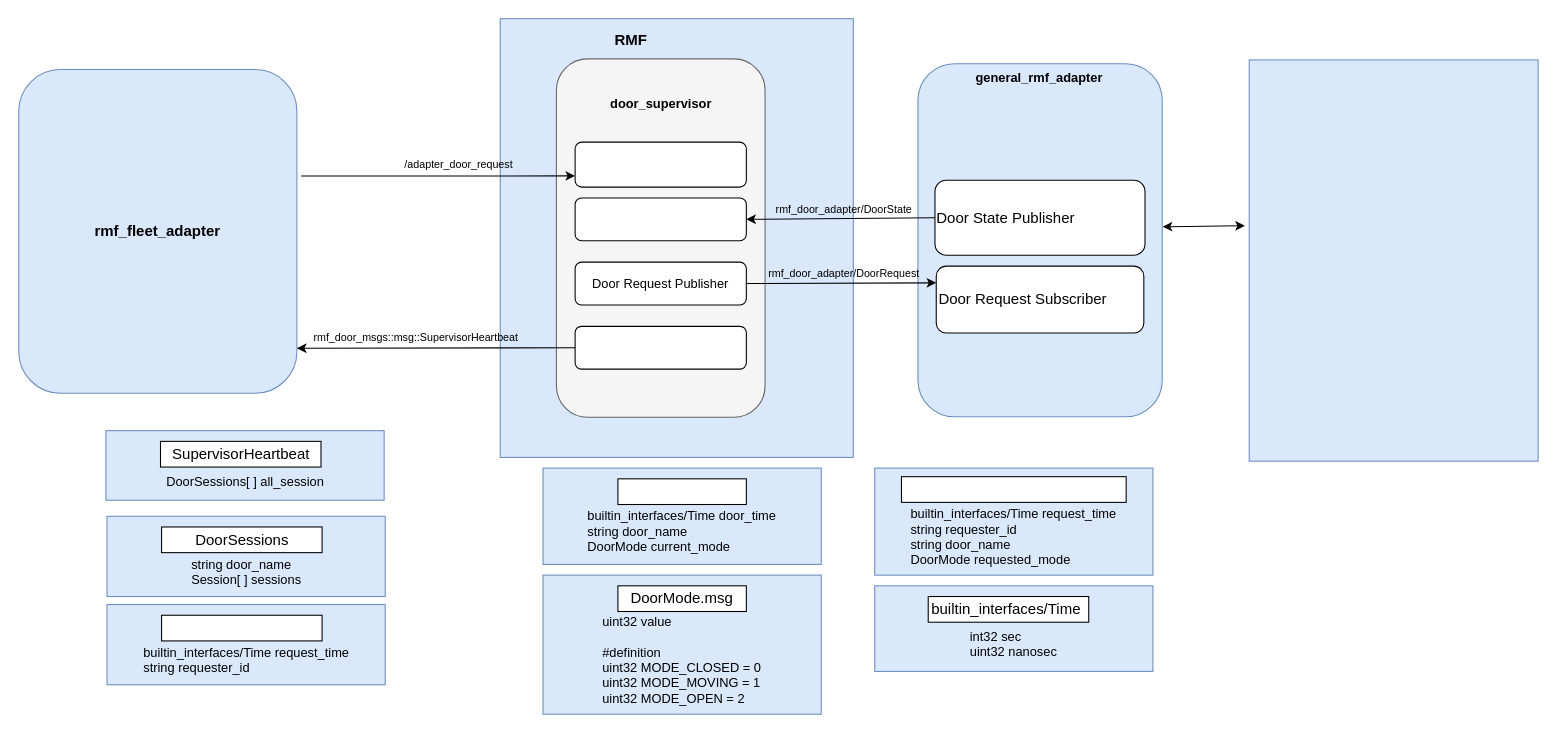
This 1557x733 diagram has some shape labels left out. Each missing label, with the centre of its shape:
"Adapter Door Request Subscriber" goes at (x=660, y=164).
"DOOR API" goes at (x=1393, y=260).
"Door Heartbeat Publisher" goes at (x=660, y=347).
"Door State Subscriber" goes at (x=660, y=219).
"DoorRequest.msg" goes at (x=1013, y=489).
"DoorState.msg" goes at (x=681, y=491).
"Session" goes at (x=241, y=627).
